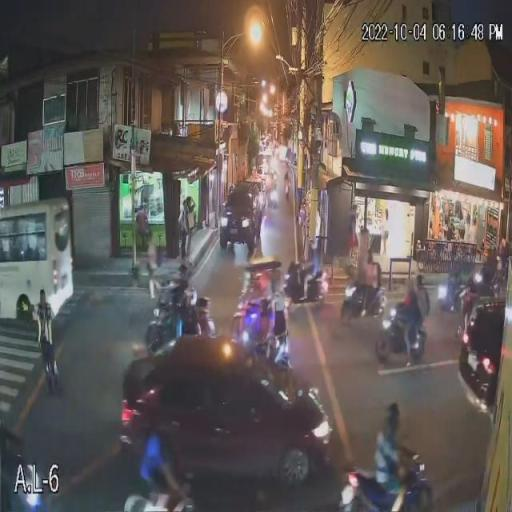helmet: (380, 400, 408, 434), (247, 272, 259, 283), (268, 287, 278, 299)
motorcycle: (338, 452, 434, 511), (145, 286, 216, 356), (234, 289, 295, 368), (374, 300, 425, 365), (340, 280, 389, 326), (136, 480, 205, 511), (282, 262, 328, 308), (436, 269, 476, 315)
rider: (374, 402, 416, 504), (392, 272, 430, 360), (235, 275, 270, 345), (166, 259, 197, 337), (348, 248, 381, 315), (261, 278, 287, 354), (440, 262, 470, 308), (286, 259, 310, 303), (470, 250, 492, 296)
